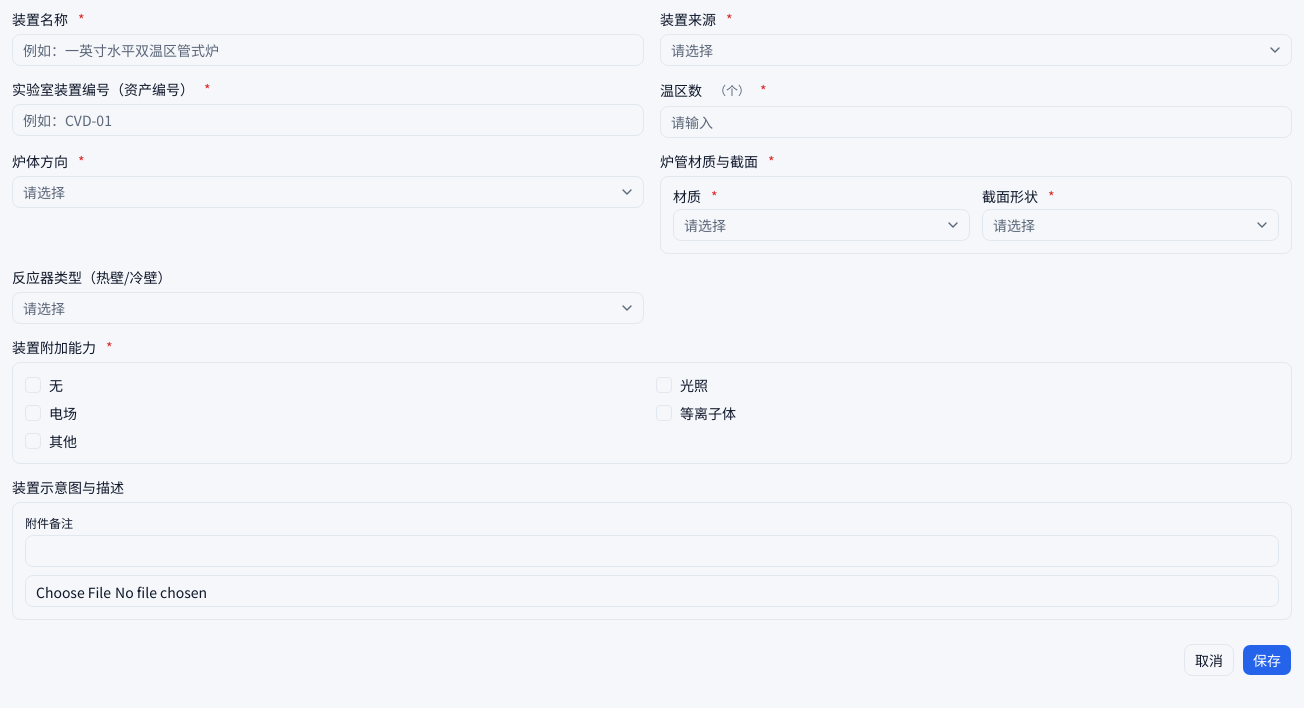
EntityForm — setup identity inputs › shows only the identity fields for the selected setup source
The width and height of the screenshot is (1304, 708).
Check: the field labelled "制造商或品牌" is not shown
Check: the field labelled "设计或建造单位" is not shown
Click the dropdown labelled "请选择" below "装置来源".
click(692, 50)  # box [660, 34, 1292, 66]
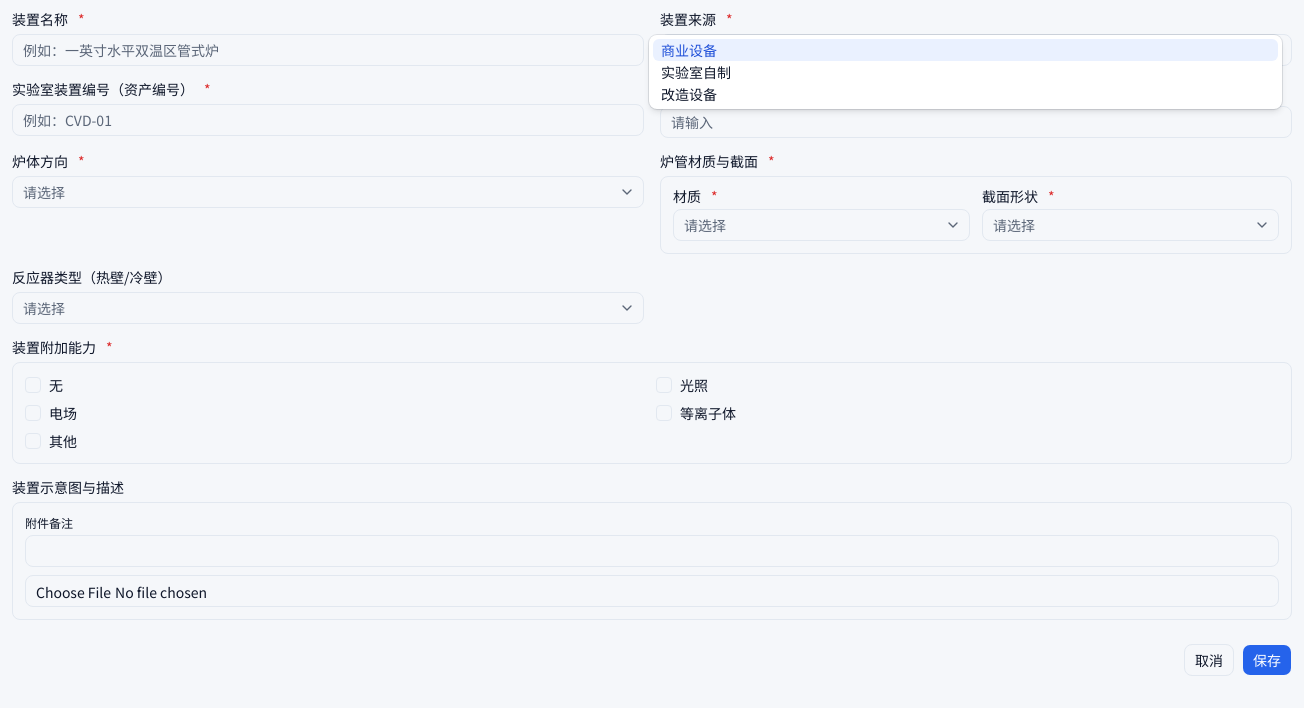
Click the option "商业设备".
click(689, 50)  # box [653, 39, 1278, 61]
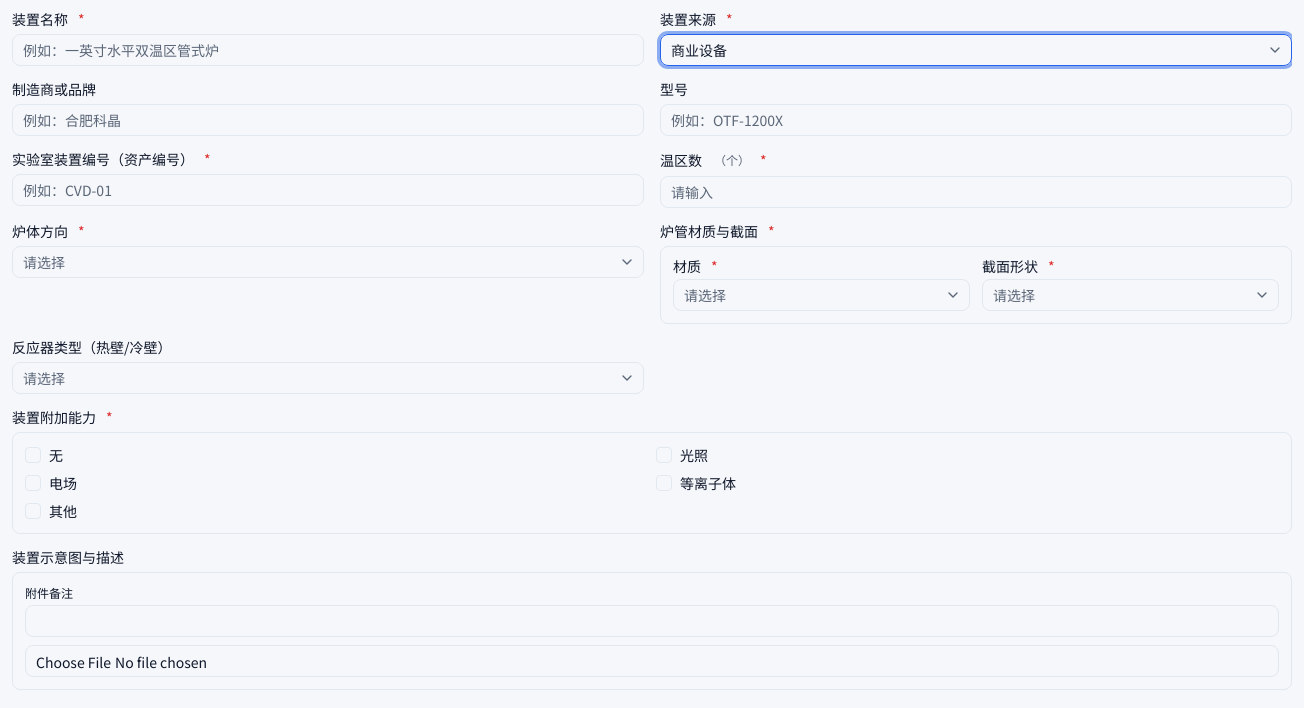
Check: the field labelled "制造商或品牌" is shown, box [12, 104, 644, 136]
Check: the field labelled "型号" is shown, box [660, 104, 1292, 136]
Click the dropdown labelled "商业设备".
click(699, 50)  # box [660, 34, 1292, 66]
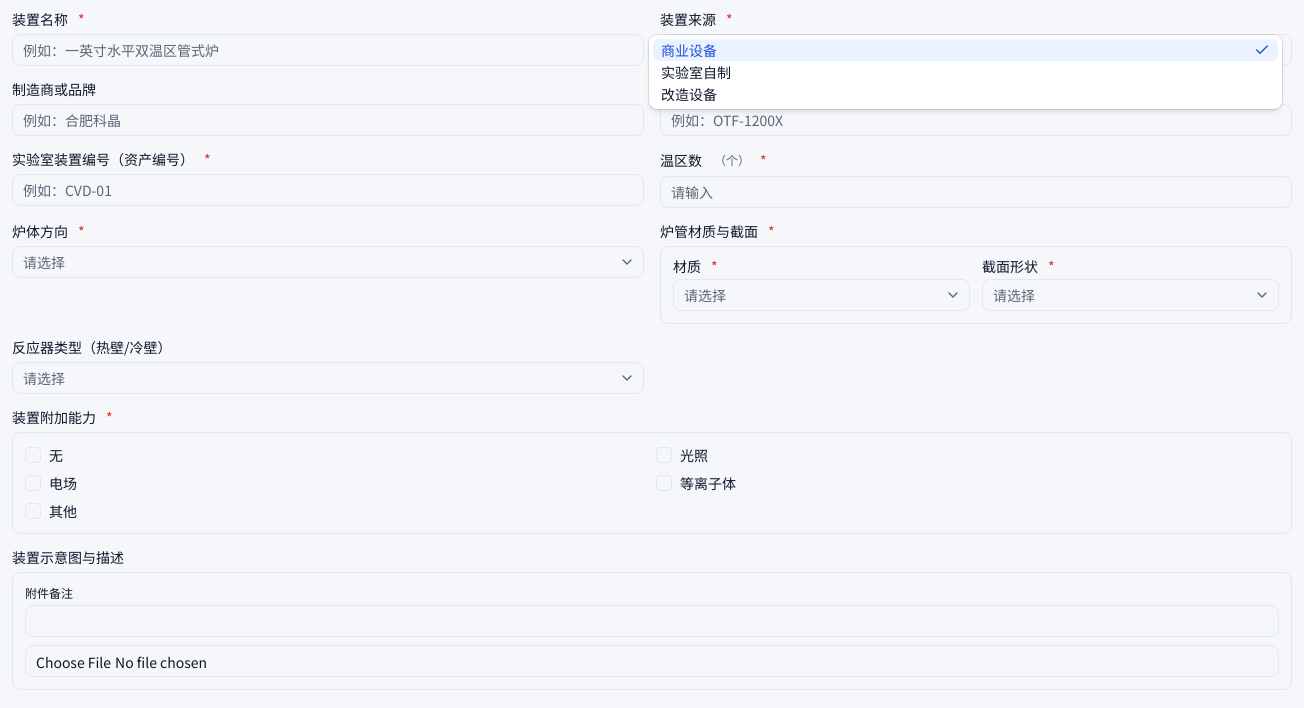
Click the option "实验室自制".
click(696, 72)  # box [661, 62, 731, 82]
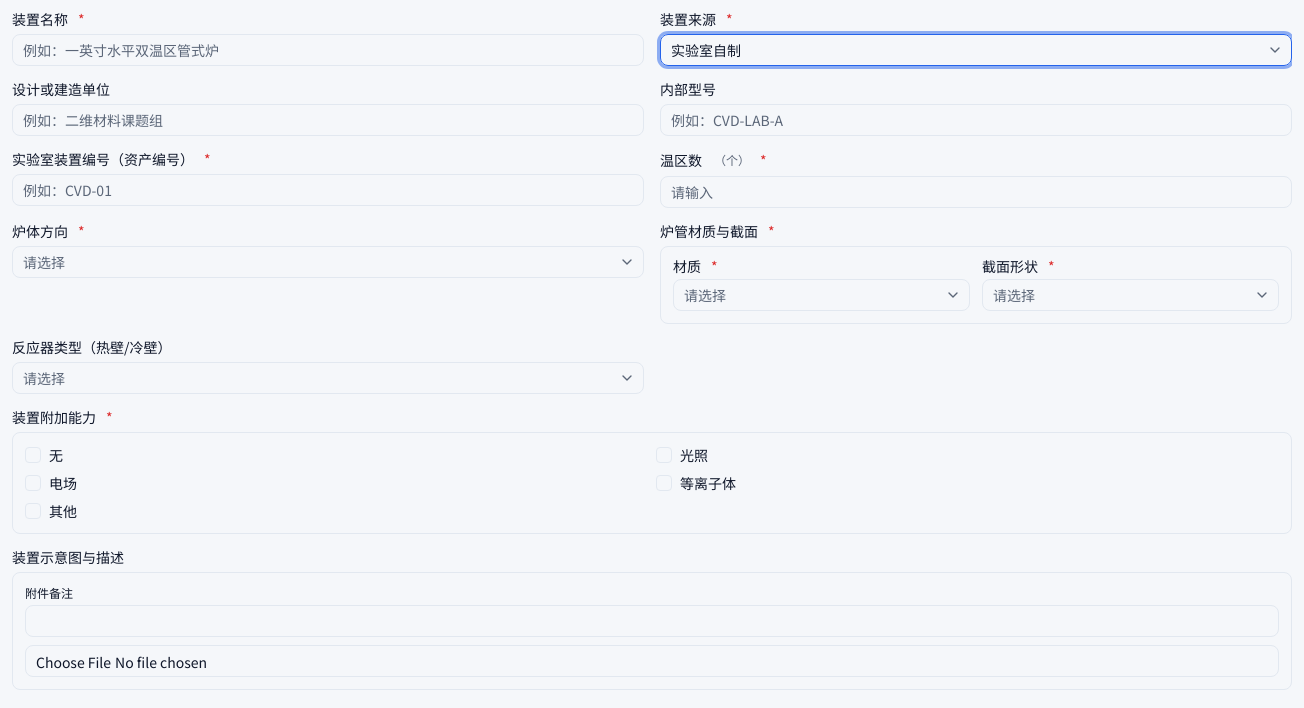
Check: the field labelled "设计或建造单位" is shown, box [12, 104, 644, 136]
Check: the field labelled "内部型号" is shown, box [660, 104, 1292, 136]
Check: the text "制造商或品牌" is gone
Click the dropdown labelled "实验室自制".
click(706, 50)  # box [660, 34, 1292, 66]
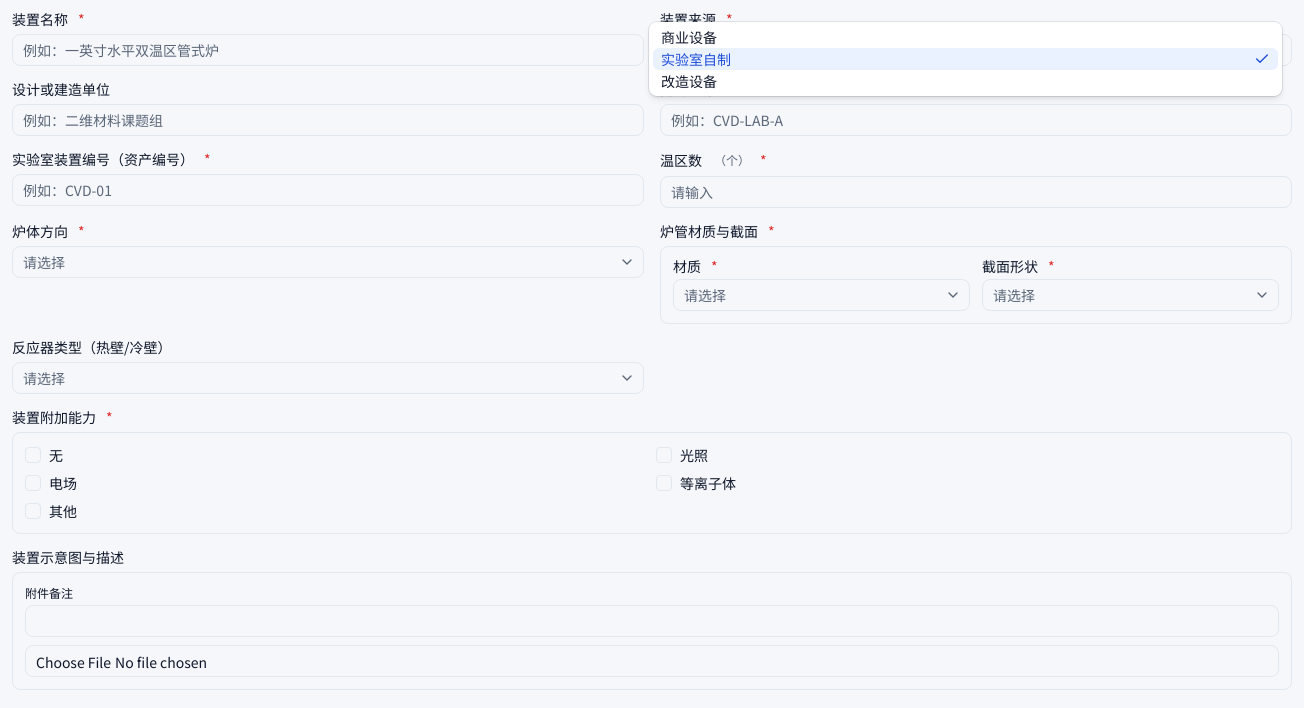
Click the option "改造设备".
click(689, 81)  # box [661, 71, 717, 91]
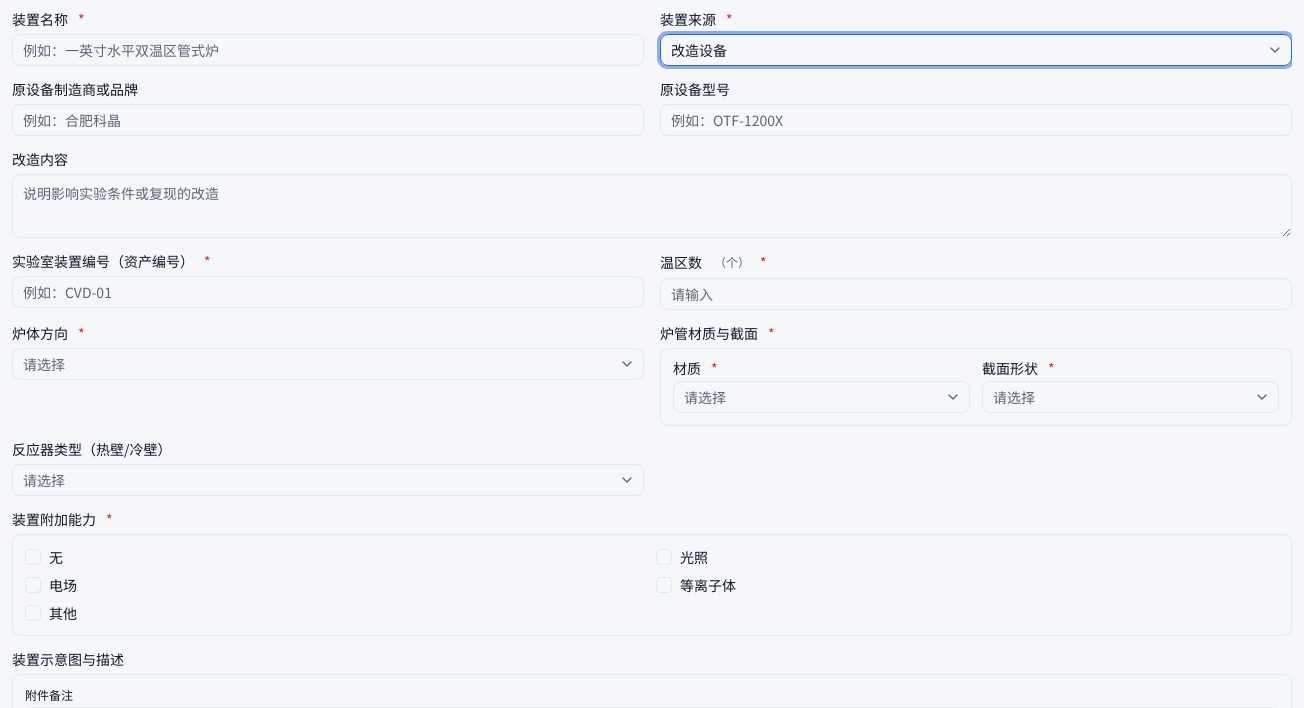
Check: the field labelled "实验室装置编号（资产编号） *" is shown, box [12, 276, 644, 308]
Check: the field labelled "原设备制造商或品牌" is shown, box [12, 104, 644, 136]
Check: the field labelled "原设备型号" is shown, box [660, 104, 1292, 136]
